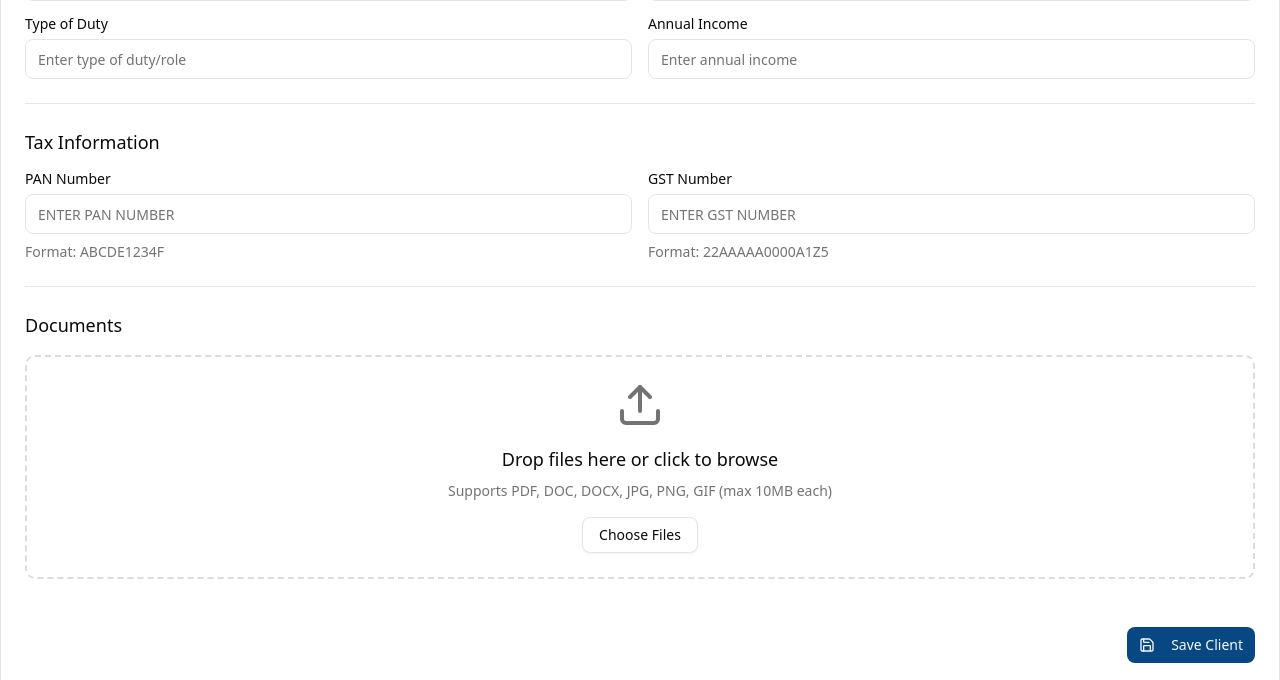
Scenario: PersonalClientForm › validates mandatory fields
(page scrolled)
What coordinates should you click on to do the following:
click the button "Save Client"
I would click on:
 (1191, 645)
Its box is x1=1127 y1=627 x2=1255 y2=663.
(page scrolled)
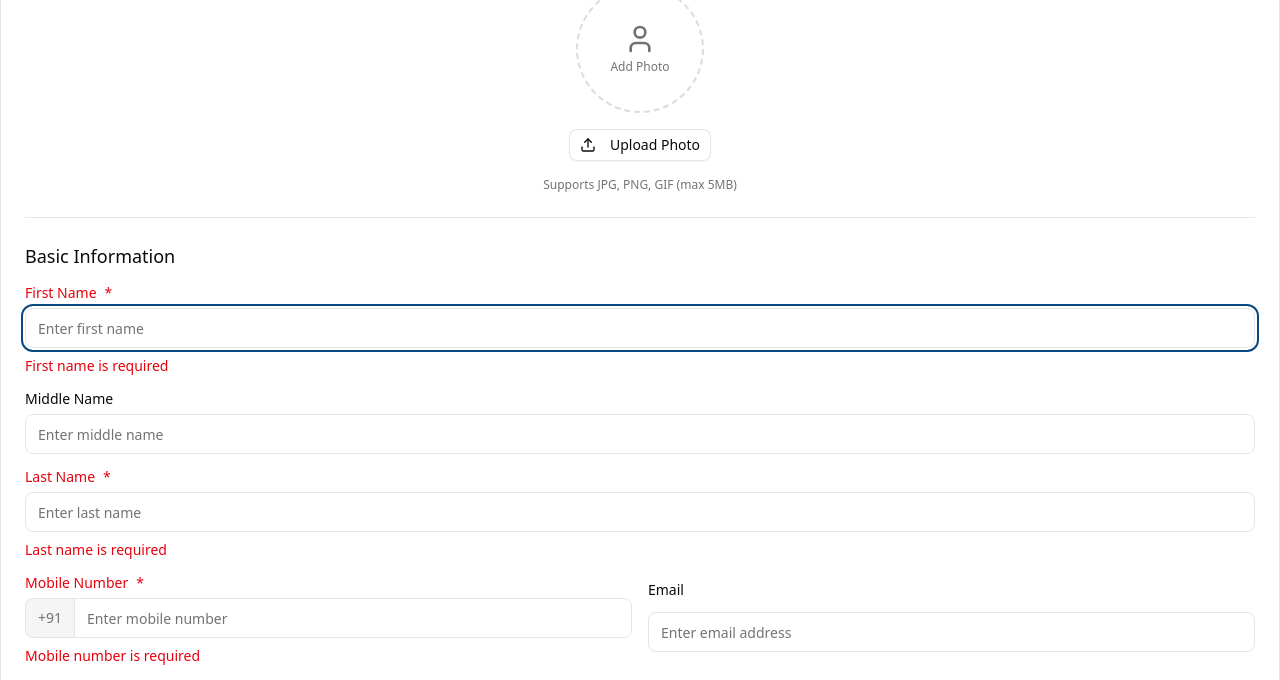
Expected: the text "First name is required" is shown, x1=25 y1=356 x2=168 y2=375
Expected: the text "Last name is required" is shown, x1=25 y1=540 x2=167 y2=559
Expected: the text "Mobile number is required" is shown, x1=25 y1=646 x2=200 y2=665
